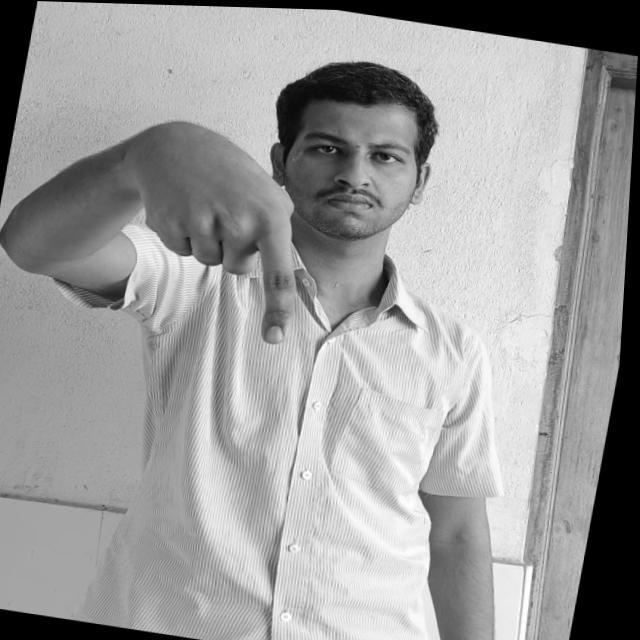Now: (99, 121, 329, 347)
